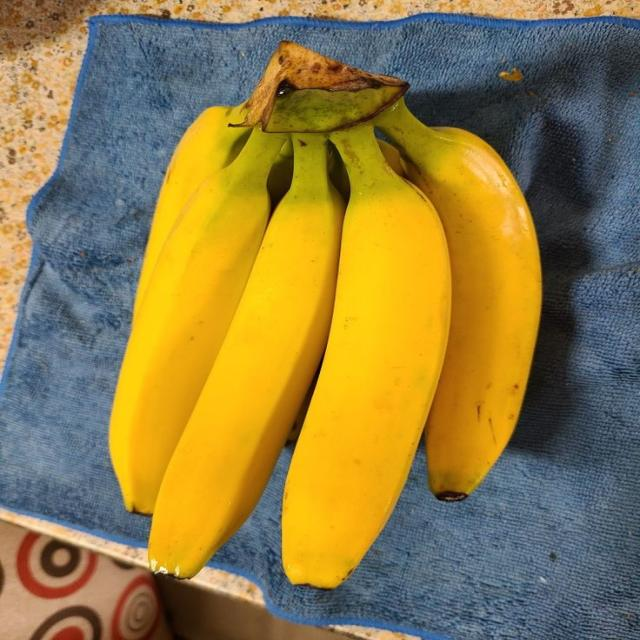unpeal banana: (149, 135, 344, 577), (282, 126, 450, 588), (110, 129, 284, 513), (376, 101, 540, 500), (134, 105, 250, 317), (330, 149, 349, 200)
